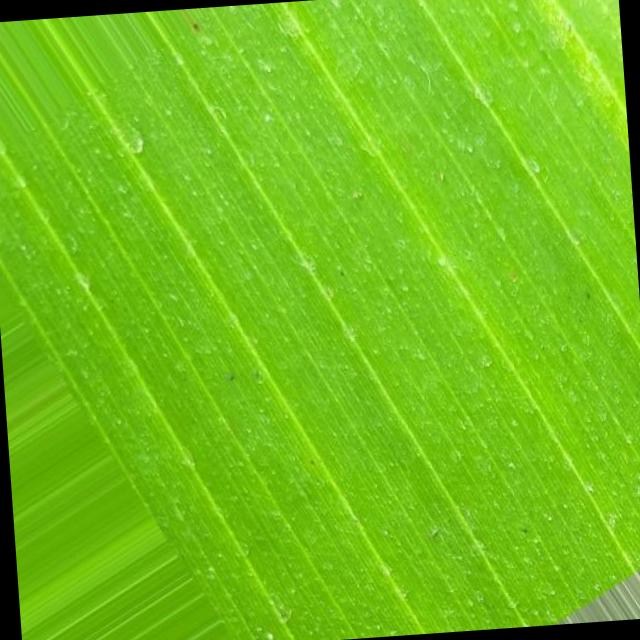Banana_Healthy: (105, 31, 558, 457)
